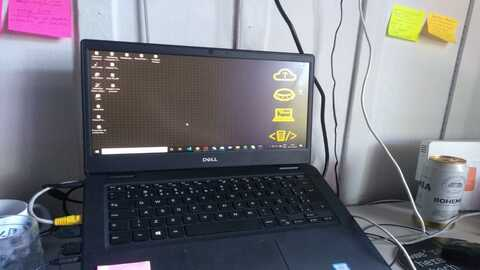bohemia: (413, 150, 471, 235)
